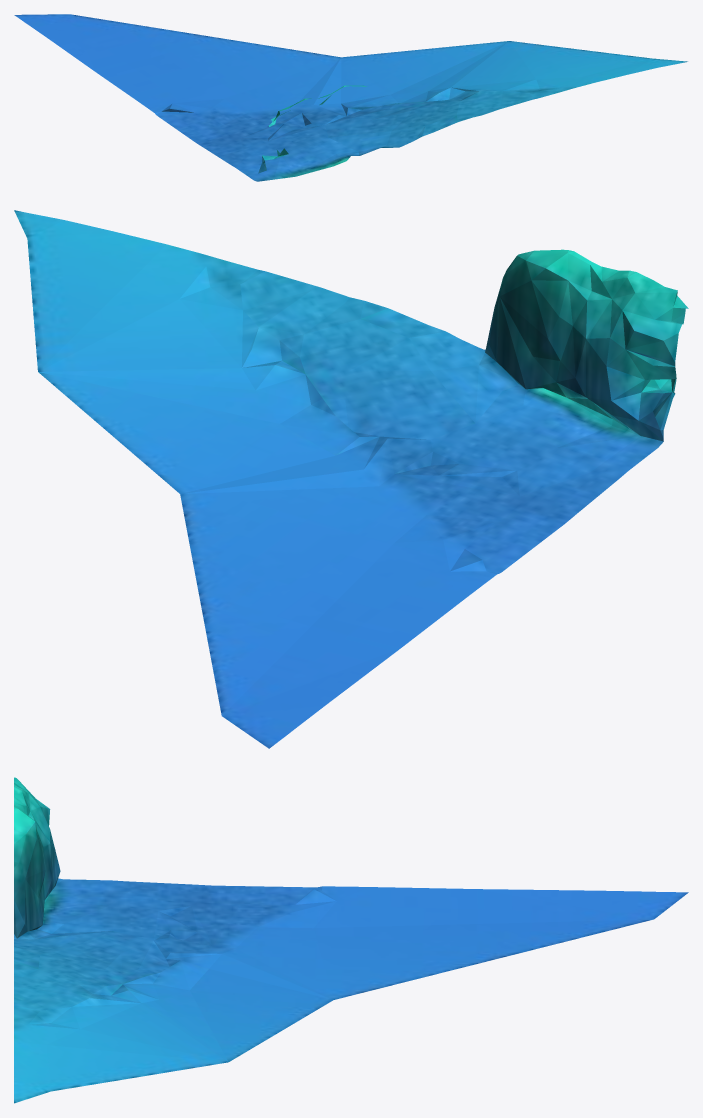
3 views of the same model, one above another, from view 1: azimuth 30°, elevation 25°; view 2: azimuth 150°, elevation 25°; view 3: azimuth 270°, elevation 25° (orthographic). The views are drawn at different scales.
Bounding box in the file's own units: 9.37 × 2.15 × 10.09.
1 material, 1 textured.
